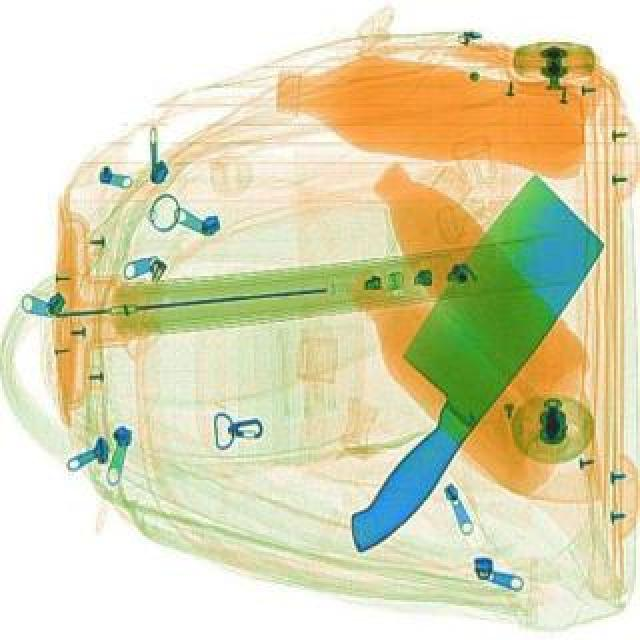knife: (278, 168, 628, 568)
